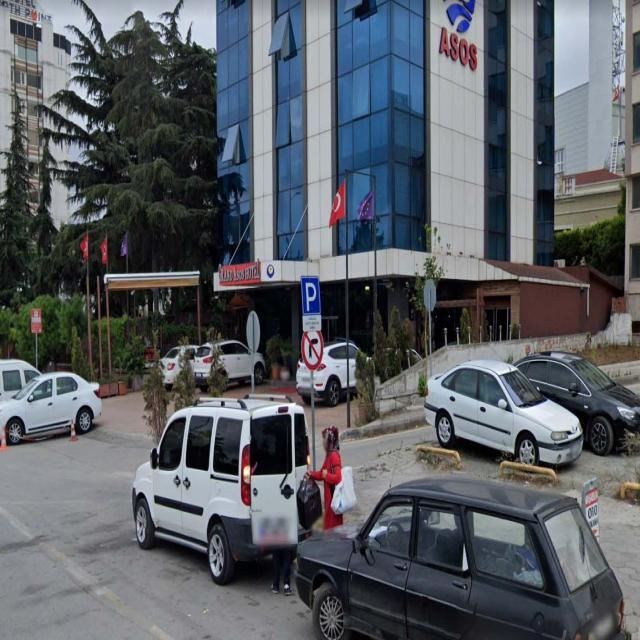park: (300, 276, 320, 316)
sagadonulmez: (302, 327, 324, 370)
